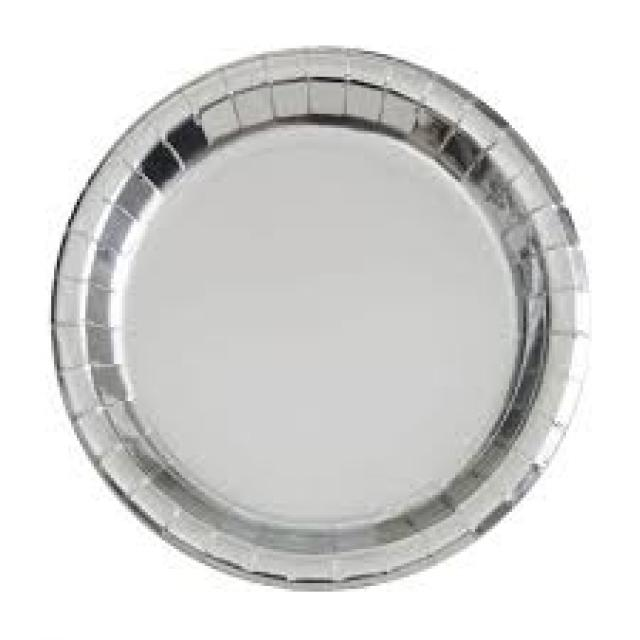metal: (48, 46, 594, 592)
